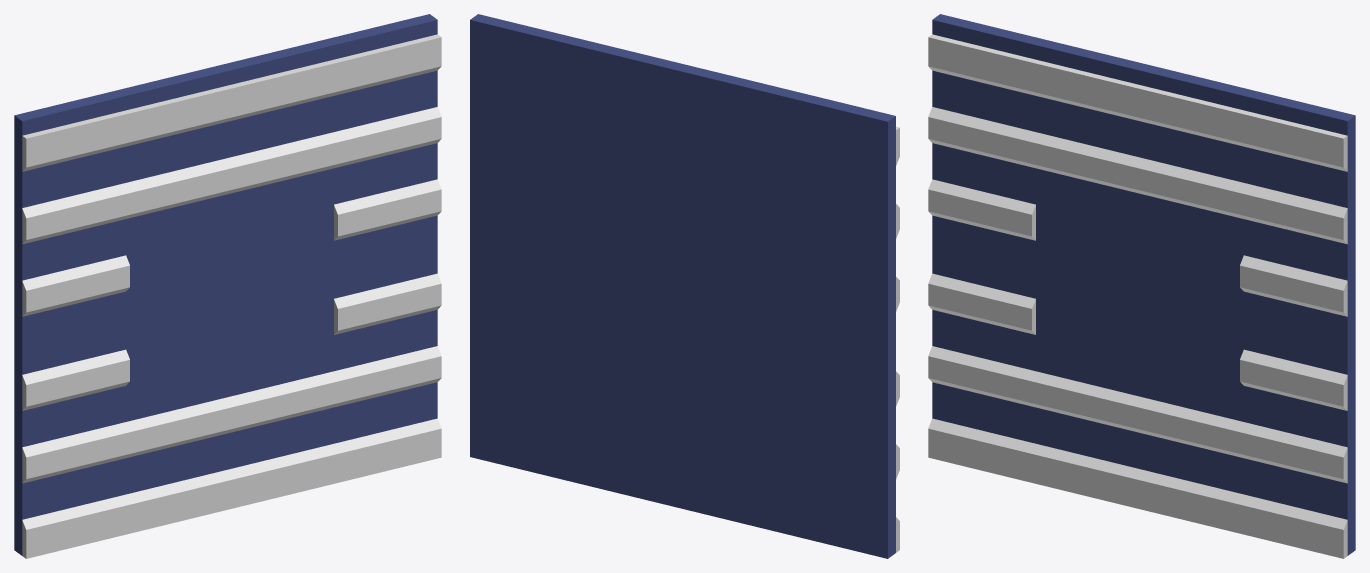
Rendered from Small_Wall_Inner_Interior.glb.
3 views of the same model, side by side, from view 1: azimuth 30°, elevation 25°; view 2: azimuth 150°, elevation 25°; view 3: azimuth 330°, elevation 25° (orthographic).
Parts seen in each view (by area): view 1: Small_Wall, Small_Interior; view 2: Small_Wall, Small_Interior; view 3: Small_Wall, Small_Interior.
Part boxes in pixels (<box>): Small_Wall: <box>14,14,437,555</box>; Small_Interior: <box>22,34,441,558</box>; Small_Wall: <box>470,14,895,558</box>; Small_Interior: <box>896,126,899,552</box>; Small_Wall: <box>932,14,1355,555</box>; Small_Interior: <box>928,34,1347,558</box>.
Bounding box in the file's own units: 6 × 6 × 0.3.
